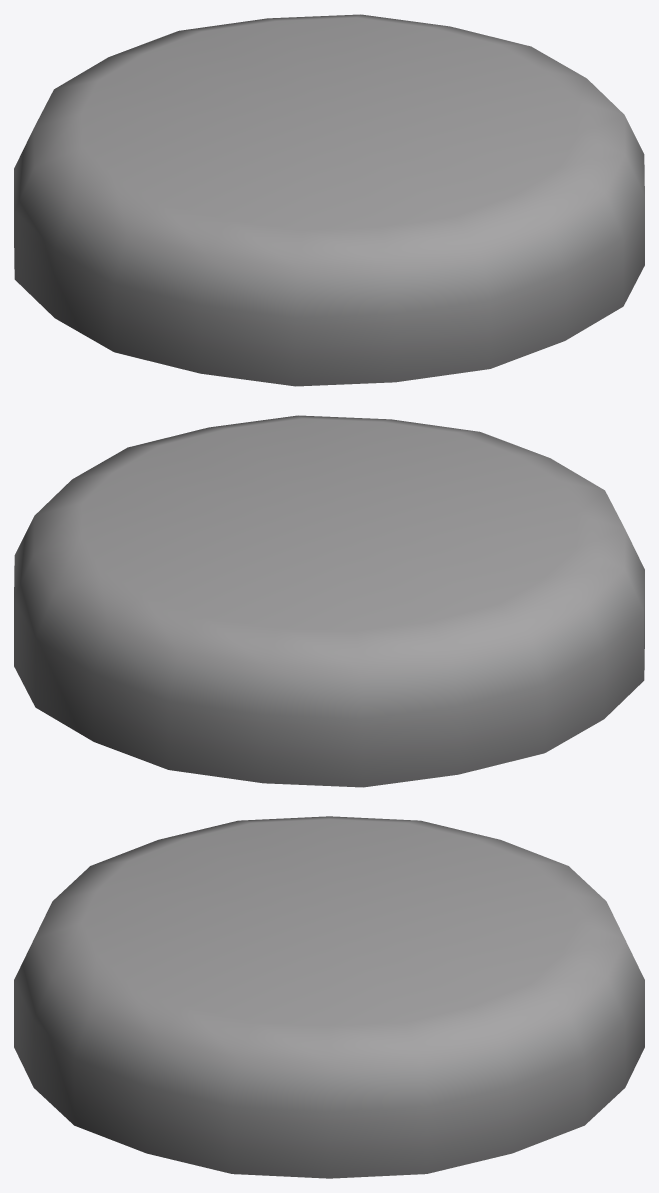
The model's file is shelf.fbx.
The picture shows the model from 3 angles, top to bottom: view 1: azimuth 30°, elevation 25°; view 2: azimuth 150°, elevation 25°; view 3: azimuth 270°, elevation 25°; orthographic projection. The views are drawn at different scales.
Visible parts, largest first — view 1: shelf; view 2: shelf; view 3: shelf.
Boxes of the visible parts, x1,y1,x2,y2 form: shelf: (14,14,644,386); shelf: (14,415,644,787); shelf: (14,816,644,1178).
Size of the model in its own units: 1.17 by 0.2588 by 1.19.
